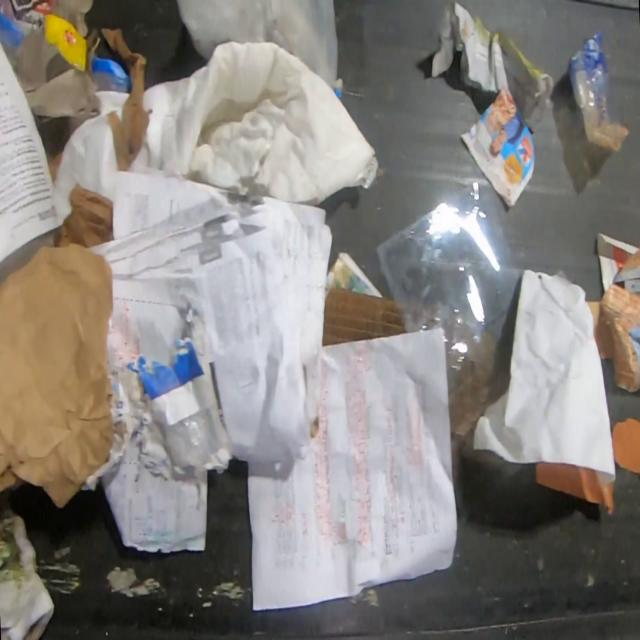cardboard: (0, 0, 102, 139), (598, 247, 640, 393), (322, 286, 405, 347), (448, 397, 504, 487), (53, 181, 115, 249), (38, 118, 67, 184), (88, 54, 131, 93), (585, 300, 612, 359)
rigid_plastic: (568, 31, 632, 155)
soft_plastic: (122, 41, 379, 207), (373, 174, 523, 410), (175, 0, 340, 90), (158, 406, 224, 470), (100, 92, 131, 122)
